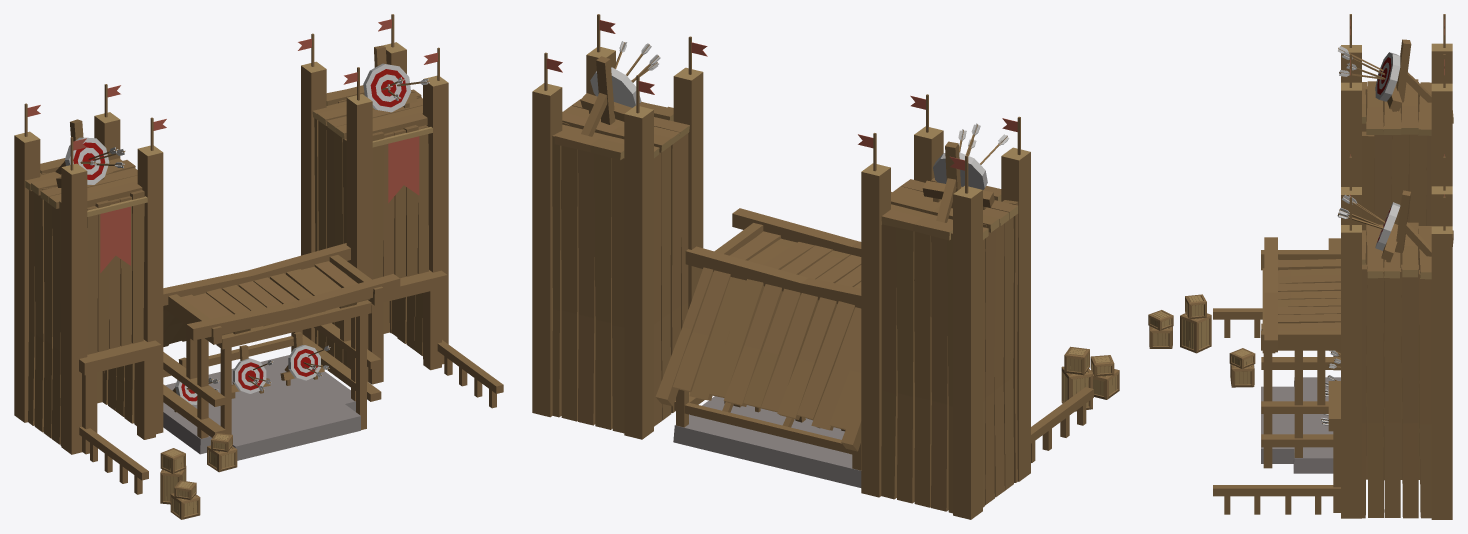
The model's file is quaternius-real-time-strategy-archery-first-age-level-3.glb.
3 renders of one model, left to right at view 1: azimuth 30°, elevation 25°; view 2: azimuth 150°, elevation 25°; view 3: azimuth 270°, elevation 25°, orthographic. The views are drawn at different scales.
Visible parts, largest first — view 1: Archery_FirstAge_Level3; view 2: Archery_FirstAge_Level3; view 3: Archery_FirstAge_Level3.
Boxes of the visible parts, x1,y1,x2,y2 form: Archery_FirstAge_Level3: [14, 14, 503, 519]; Archery_FirstAge_Level3: [532, 14, 1119, 519]; Archery_FirstAge_Level3: [1148, 14, 1453, 519].
Size of the model in its own units: 1.88 by 1.51 by 1.27.
Materials: 1 (1 with a texture image).
